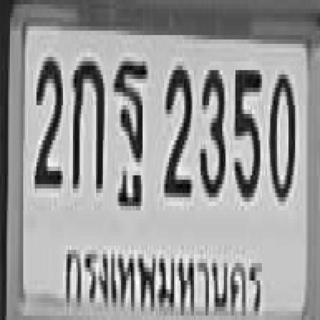A01: (71, 55, 103, 186)
A16: (113, 57, 146, 188)
N00: (269, 70, 293, 197)
N02: (162, 61, 191, 193), (33, 52, 61, 184)
N03: (199, 66, 224, 193)
N05: (232, 66, 260, 197)
P04: (62, 232, 267, 320)
